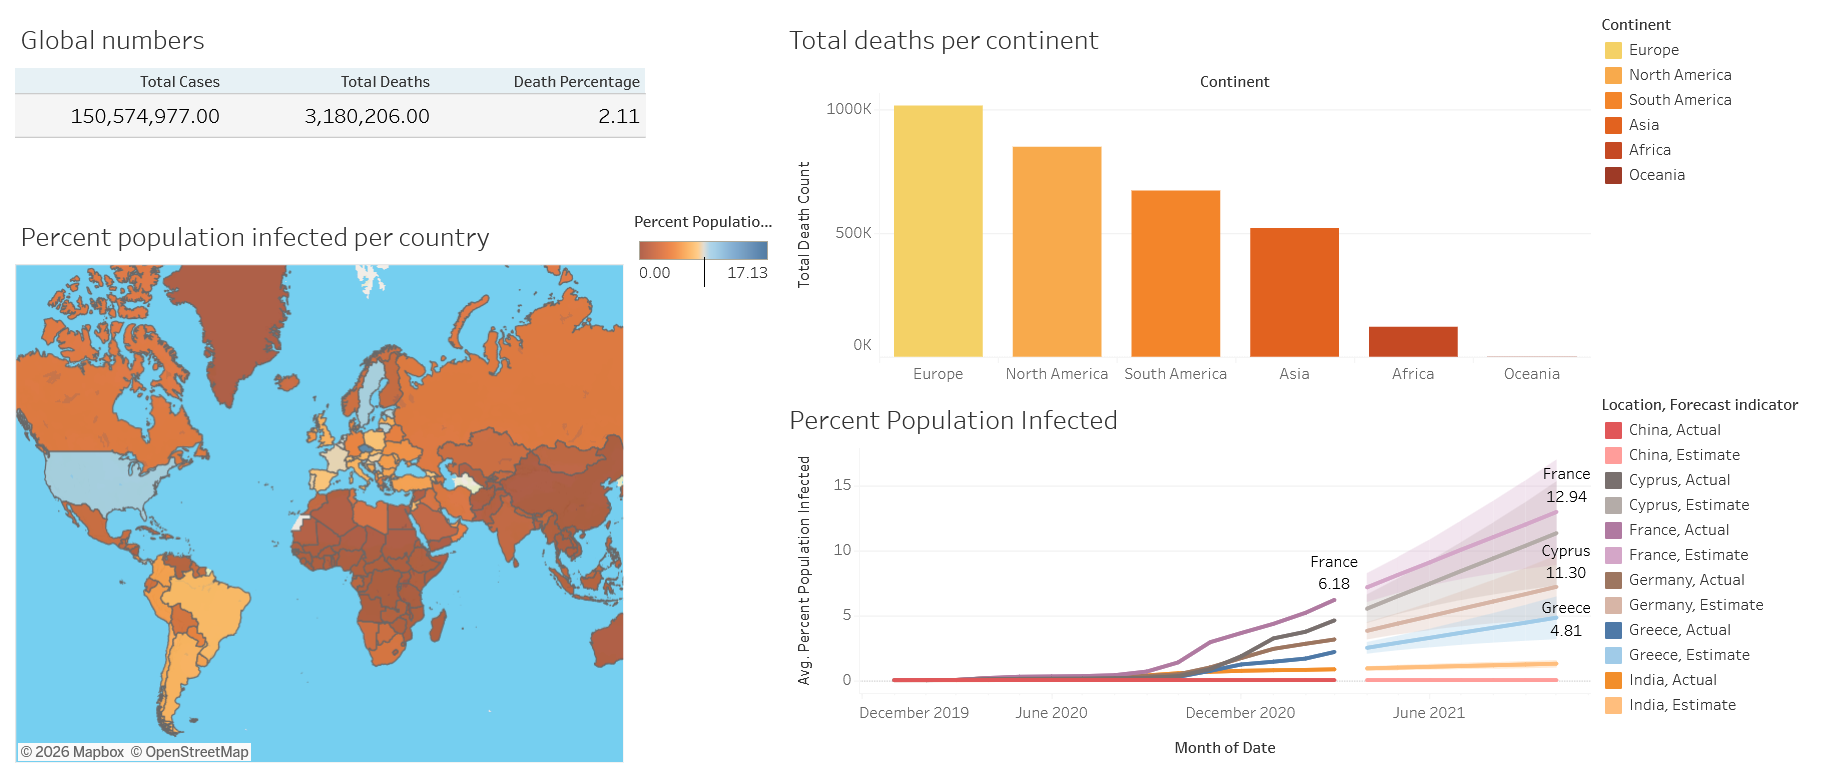

Layout of this report page (visuals, bound fields, positions):
{"tool":"tableau","page":{"name":"Dashboard 1","canvas":[1000,1000],"units":"permille","ordinal":0},"visuals":[{"type":"worksheet","title":"Sheet 1","mark":"Automatic","box":[4.8,9.3,426.1,254.4]},{"type":"worksheet","title":"Sheet 2","mark":"Automatic","rows":["TotalDeathCount"],"cols":["location"],"box":[430.9,9.3,453.2,490.7]},{"type":"legend","title":"Sheet 2","param":"[federated.1jyj1l013crr0x15jyejb08uhp6u].[none:location:nk]","box":[884.1,9.3,111,574.9]},{"type":"worksheet","title":"Sheet 3","mark":"Automatic","box":[4.8,263.6,343.1,727.1]},{"type":"legend","title":"Sheet 3","param":"[federated.1cyw5e31qkuv90123h6lv1bqb413].[sum:PercentPopulationInfected:qk]","box":[347.9,263.6,83,727.1]},{"type":"worksheet","title":"Sheet 4","mark":"Automatic","rows":["PercentPopulationInfected"],"cols":["date"],"box":[430.9,500,453.2,490.7]},{"type":"legend","title":"Sheet 4","param":"[federated.093y1eg173p1aq12rfdil1ni4ldx].[none:Location:nk]\n[federated.093y1eg17","box":[884.1,584.2,111,369.3]}]}

Visuals, with their boxes on the dashboard's canvas, which has no fixed pixel size, in thousandths of its width and height (x1, y1, x2, y2). These are canvas units, not pixel positions in the 1821x766 screenshot, which may show the page scaled, cropped or inside an application window:
"Sheet 1" worksheet: [5, 9, 431, 264]
"Sheet 2" worksheet: [431, 9, 884, 500]
"Sheet 2" legend: [884, 9, 995, 584]
"Sheet 3" worksheet: [5, 264, 348, 991]
"Sheet 3" legend: [348, 264, 431, 991]
"Sheet 4" worksheet: [431, 500, 884, 991]
"Sheet 4" legend: [884, 584, 995, 954]
